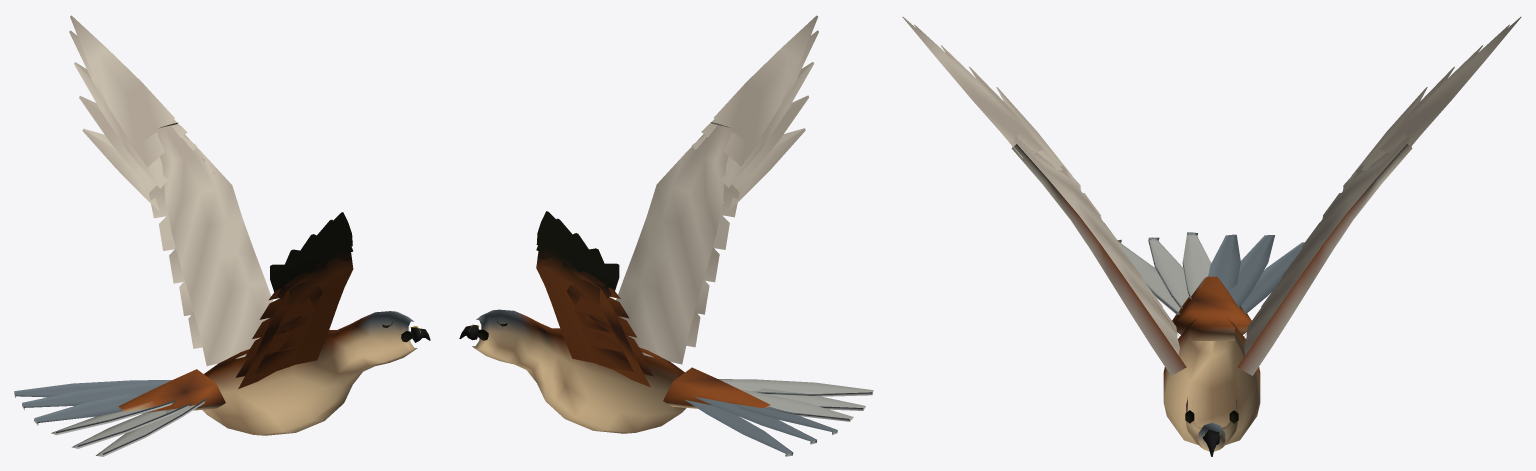
Rendered from SM_Bird_kestrel_flap0_LOD1.glb.
The picture shows the model from 3 angles, left to right: view 1: azimuth 30°, elevation 25°; view 2: azimuth 150°, elevation 25°; view 3: azimuth 270°, elevation 25°; orthographic projection. The views are drawn at different scales.
Visible parts, largest first — view 1: SM_Bird_kestrel_flap0_LOD1; view 2: SM_Bird_kestrel_flap0_LOD1; view 3: SM_Bird_kestrel_flap0_LOD1.
Boxes of the visible parts, x1,y1,x2,y2 form: SM_Bird_kestrel_flap0_LOD1: (14,15,430,456); SM_Bird_kestrel_flap0_LOD1: (459,15,873,456); SM_Bird_kestrel_flap0_LOD1: (902,17,1521,456).
Size of the model in its own units: 0.3789 by 0.3162 by 0.4638.
